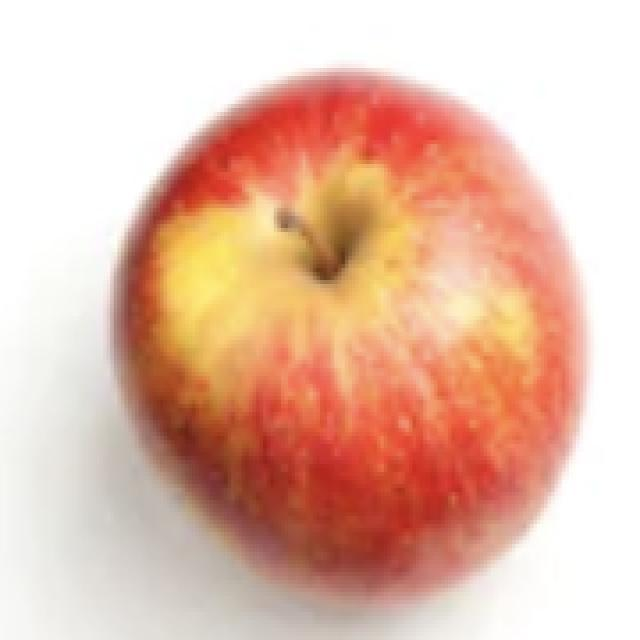Fresh Apple: (148, 89, 574, 578)
